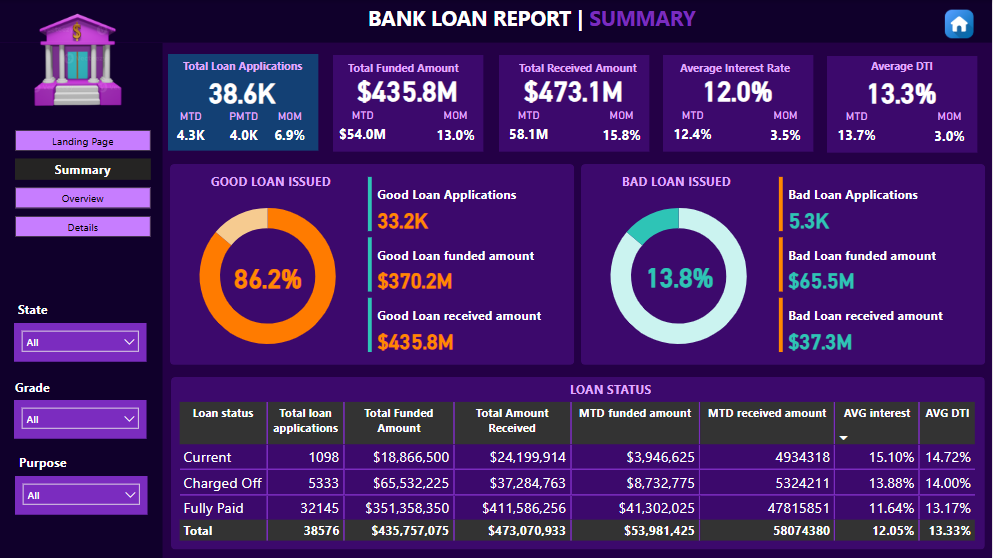

Layout of this report page (visuals, bound fields, positions):
{"tool":"powerbi","page":{"name":"Summary","canvas":[1280,720],"ordinal":1},"visuals":[{"type":"shape","box":[0,0,1279.8,55.3],"z":0},{"type":"shape","box":[0,55.3,209.8,664.7],"z":1000},{"type":"textbox","box":[469.1,0,443.6,56.7],"z":2000},{"type":"group","id":"g1","title":"Group 1","box":[206.9,69.4,206.9,124.7],"z":3000},{"type":"group","id":"g2","title":"Group 1","box":[428,70.9,199.8,124.7],"z":4000},{"type":"group","id":"g3","title":"Group 1","box":[642,70.9,198.4,124.7],"z":5000},{"type":"group","id":"g4","title":"Group 1","box":[854.6,70.9,197,124.7],"z":6000},{"type":"group","id":"g5","title":"Group 1","box":[1065.8,69.4,197,127.6],"z":7000},{"type":"shape","box":[216.8,69.4,194.2,124.7],"z":8000,"group":"g1"},{"type":"shape","box":[429,70.9,194.2,124.7],"z":8000,"group":"g2"},{"type":"shape","box":[643,70.9,194.2,124.7],"z":8000,"group":"g3"},{"type":"shape","box":[855.6,70.9,194.2,124.7],"z":8000,"group":"g4"},{"type":"shape","box":[1066.8,72.5,194.2,124.7],"z":8000,"group":"g5"},{"type":"shape","box":[219.7,211.2,521.6,259.4],"z":8000,"group":"g6"},{"type":"shape","box":[749.8,211.2,521.6,259.4],"z":8000,"group":"g7"},{"type":"shape","box":[221.1,486.1,1050.2,222.5],"z":8000},{"type":"card","fields":{"Values":["All Measures.Total Funded Amount"]},"box":[428,89.5,194.2,51],"z":8500,"group":"g2"},{"type":"card","fields":{"Values":["All Measures.Total Amount Received"]},"box":[642,89.5,194.2,51],"z":8500,"group":"g3"},{"type":"card","fields":{"Values":["All Measures.AVG interest rate"]},"box":[854.6,89.5,194.2,51],"z":8500,"group":"g4"},{"type":"card","fields":{"Values":["All Measures.AVG DTI"]},"box":[1065.8,91.1,194.2,51],"z":8500,"group":"g5"},{"type":"card","fields":{"Values":["All Measures.total_loan_applications"]},"box":[256.8,95.1,110.6,43.9],"z":8500,"group":"g1"},{"type":"textbox","box":[231,69.4,182.8,31.2],"z":9000,"group":"g1"},{"type":"textbox","box":[1118.2,69.4,137.5,35.4],"z":9000,"group":"g5"},{"type":"textbox","box":[443.9,72.5,184.3,34],"z":9000,"group":"g2"},{"type":"textbox","box":[663.8,72.5,172.9,34],"z":9000,"group":"g3"},{"type":"textbox","box":[873.2,72.5,178.6,34],"z":9000,"group":"g4"},{"type":"group","id":"g6","title":"Group 2","box":[219.7,211.2,521.6,259.4],"z":9000},{"type":"card","title":"MTD","fields":{"Values":["All Measures.MTD funded amount"]},"box":[428.3,140.5,79.4,52.4],"z":9500,"group":"g2"},{"type":"card","title":"MTD","fields":{"Values":["All Measures.MTD received amount"]},"box":[642.3,140.5,79.4,52.4],"z":9500,"group":"g3"},{"type":"card","title":"MTD","fields":{"Values":["All Measures.MTD AVG interest rate"]},"box":[854.9,140.5,79.4,52.4],"z":9500,"group":"g4"},{"type":"card","title":"MTD","fields":{"Values":["All Measures.MTD"]},"box":[206.9,141.7,79.4,52.4],"z":9500,"group":"g1"},{"type":"card","title":"MTD","fields":{"Values":["All Measures.MTD AVG DTI"]},"box":[1066.1,142.1,79.4,52.4],"z":9500,"group":"g5"},{"type":"card","title":"PMTD","fields":{"Values":["All Measures.PMTD"]},"box":[274.9,141.7,79.4,52.4],"z":10000,"group":"g1"},{"type":"group","id":"g7","title":"Group 2","box":[749.8,211.2,521.6,259.4],"z":10000},{"type":"card","title":"MOM","fields":{"Values":["All Measures.MOM funded amount"]},"box":[548.8,140.5,76.5,55.3],"z":10500,"group":"g2"},{"type":"card","title":"MOM","fields":{"Values":["All Measures.MOM received amount"]},"box":[762.8,140.5,76.5,55.3],"z":10500,"group":"g3"},{"type":"card","title":"MOM","fields":{"Values":["All Measures.MOM AVG interest rate"]},"box":[975.4,140.5,76.5,55.3],"z":10500,"group":"g4"},{"type":"card","title":"MOM","fields":{"Values":["All Measures.MOM loan applications"]},"box":[334.5,141.7,79.4,52.4],"z":10500,"group":"g1"},{"type":"card","title":"MOM","fields":{"Values":["All Measures.MOM AVG DTI"]},"box":[1186.6,142.1,76.5,55.3],"z":10500,"group":"g5"},{"type":"textbox","box":[267.9,218.3,177.2,43.9],"z":11000,"group":"g6"},{"type":"textbox","box":[798,218.3,177.2,43.9],"z":11000,"group":"g7"},{"type":"card","fields":{"Values":["All Measures.Good Loan %"]},"box":[283.5,331.7,123.3,51],"z":11000},{"type":"donutChart","fields":{"Category":["bank_loan.Good Loan VS Bad Loan"],"Y":["All Measures.total_loan_applications"]},"box":[221.1,241,249.4,229.6],"z":12000,"group":"g6"},{"type":"donutChart","fields":{"Category":["bank_loan.Good Loan VS Bad Loan"],"Y":["All Measures.total_loan_applications"]},"box":[751.2,241,249.4,229.6],"z":12000,"group":"g7"},{"type":"textbox","box":[18.4,382.7,59.5,34],"z":12000,"group":"g8"},{"type":"textbox","box":[729.9,486.1,177.2,34],"z":12000},{"type":"cardVisual","fields":{"Data":["All Measures.Good Loan Applications","All Measures.Good Loan funded amount","All Measures.Good Loan received amount"]},"box":[470.6,222.5,270.7,238.1],"z":13000,"group":"g6"},{"type":"cardVisual","fields":{"Data":["All Measures.Bad Loan Applications","All Measures.Bad Loan funded amount","All Measures.Bad Loan received amount"]},"box":[1000.7,222.5,270.7,238.1],"z":13000,"group":"g7"},{"type":"card","fields":{"Values":["All Measures.Bad Loan %"]},"box":[819.2,330.2,114.8,51],"z":13000},{"type":"tableEx","fields":{"Values":["bank_loan.loan_status","All Measures.total_loan_applications","All Measures.Total Funded Amount","All Measures.Total Amount Received","All Measures.MTD funded amount","All Measures.MTD received amount","All Measures.AVG interest rate","All Measures.AVG DTI"]},"box":[225.4,513.1,1046,199.8],"z":14000},{"type":"group","id":"g8","title":"Group 3","box":[18.4,382.7,171.5,83.6],"z":15000},{"type":"group","id":"g9","title":"Group 4","box":[14,483.3,175.9,82.2],"z":16000},{"type":"slicer","fields":{"Values":["bank_loan.address_state"]},"box":[18.4,416.7,171.5,49.6],"z":17000,"group":"g8"},{"type":"group","id":"g10","title":"Group 5","box":[19.8,581.1,171.5,83.6],"z":17000},{"type":"image","box":[18.4,0,168.7,151.7],"z":18000},{"type":"slicer","fields":{"Values":["bank_loan.grade"]},"box":[18.4,515.9,171.5,49.6],"z":18000,"group":"g9"},{"type":"pageNavigator","box":[19.8,167.2,175.7,141.7],"z":19000},{"type":"slicer","fields":{"Values":["bank_loan.purpose"]},"box":[19.8,615.1,171.5,49.6],"z":19000,"group":"g10"},{"type":"image","box":[1214.6,7.1,46.8,48.2],"z":20000},{"type":"textbox","box":[14,483.3,76.1,32.3],"z":20000,"group":"g9"},{"type":"textbox","box":[19.8,581.1,86.5,34],"z":21000,"group":"g10"}]}

Visuals, with their boxes in screenshot pixels (x1, y1, x2, y2), scaled from the page's 1280x720 canvas onto the 993x558 screenshot:
shape: x1=0 y1=0 x2=992 y2=43
shape: x1=0 y1=43 x2=163 y2=557
textbox: x1=364 y1=0 x2=708 y2=44
"Group 1" group: x1=161 y1=54 x2=321 y2=150
"Group 1" group: x1=332 y1=55 x2=487 y2=152
"Group 1" group: x1=498 y1=55 x2=652 y2=152
"Group 1" group: x1=663 y1=55 x2=816 y2=152
"Group 1" group: x1=827 y1=54 x2=980 y2=153
shape: x1=168 y1=54 x2=319 y2=150
shape: x1=333 y1=55 x2=483 y2=152
shape: x1=499 y1=55 x2=649 y2=152
shape: x1=664 y1=55 x2=814 y2=152
shape: x1=828 y1=56 x2=978 y2=153
shape: x1=170 y1=164 x2=575 y2=365
shape: x1=582 y1=164 x2=986 y2=365
shape: x1=172 y1=377 x2=986 y2=549
card - All Measures.Total Funded Amount: x1=332 y1=69 x2=483 y2=109
card - All Measures.Total Amount Received: x1=498 y1=69 x2=649 y2=109
card - All Measures.AVG interest rate: x1=663 y1=69 x2=814 y2=109
card - All Measures.AVG DTI: x1=827 y1=71 x2=977 y2=110
card - All Measures.total_loan_applications: x1=199 y1=74 x2=285 y2=108
textbox: x1=179 y1=54 x2=321 y2=78
textbox: x1=867 y1=54 x2=974 y2=81
textbox: x1=344 y1=56 x2=487 y2=83
textbox: x1=515 y1=56 x2=649 y2=83
textbox: x1=677 y1=56 x2=816 y2=83
"Group 2" group: x1=170 y1=164 x2=575 y2=365
"MTD" card: x1=332 y1=109 x2=394 y2=149
"MTD" card: x1=498 y1=109 x2=560 y2=149
"MTD" card: x1=663 y1=109 x2=725 y2=149
"MTD" card: x1=161 y1=110 x2=222 y2=150
"MTD" card: x1=827 y1=110 x2=889 y2=151
"PMTD" card: x1=213 y1=110 x2=275 y2=150
"Group 2" group: x1=582 y1=164 x2=986 y2=365
"MOM" card: x1=426 y1=109 x2=485 y2=152
"MOM" card: x1=592 y1=109 x2=651 y2=152
"MOM" card: x1=757 y1=109 x2=816 y2=152
"MOM" card: x1=259 y1=110 x2=321 y2=150
"MOM" card: x1=921 y1=110 x2=980 y2=153
textbox: x1=208 y1=169 x2=345 y2=203
textbox: x1=619 y1=169 x2=757 y2=203
card - All Measures.Good Loan %: x1=220 y1=257 x2=316 y2=297
donutChart - bank_loan.Good Loan VS Bad Loan x All Measures.total_loan_applications: x1=172 y1=187 x2=365 y2=365
donutChart - bank_loan.Good Loan VS Bad Loan x All Measures.total_loan_applications: x1=583 y1=187 x2=776 y2=365
textbox: x1=14 y1=297 x2=60 y2=323
textbox: x1=566 y1=377 x2=704 y2=403
cardVisual - All Measures.Good Loan Applications x All Measures.Good Loan funded amount: x1=365 y1=172 x2=575 y2=357
cardVisual - All Measures.Bad Loan Applications x All Measures.Bad Loan funded amount: x1=776 y1=172 x2=986 y2=357
card - All Measures.Bad Loan %: x1=636 y1=256 x2=725 y2=295
tableEx - bank_loan.loan_status x All Measures.total_loan_applications: x1=175 y1=398 x2=986 y2=552
"Group 3" group: x1=14 y1=297 x2=147 y2=361
"Group 4" group: x1=11 y1=375 x2=147 y2=438
slicer - bank_loan.address_state: x1=14 y1=323 x2=147 y2=361
"Group 5" group: x1=15 y1=450 x2=148 y2=515
image: x1=14 y1=0 x2=145 y2=118
slicer - bank_loan.grade: x1=14 y1=400 x2=147 y2=438
pageNavigator: x1=15 y1=130 x2=152 y2=239
slicer - bank_loan.purpose: x1=15 y1=477 x2=148 y2=515
image: x1=942 y1=6 x2=979 y2=43
textbox: x1=11 y1=375 x2=70 y2=400
textbox: x1=15 y1=450 x2=82 y2=477
